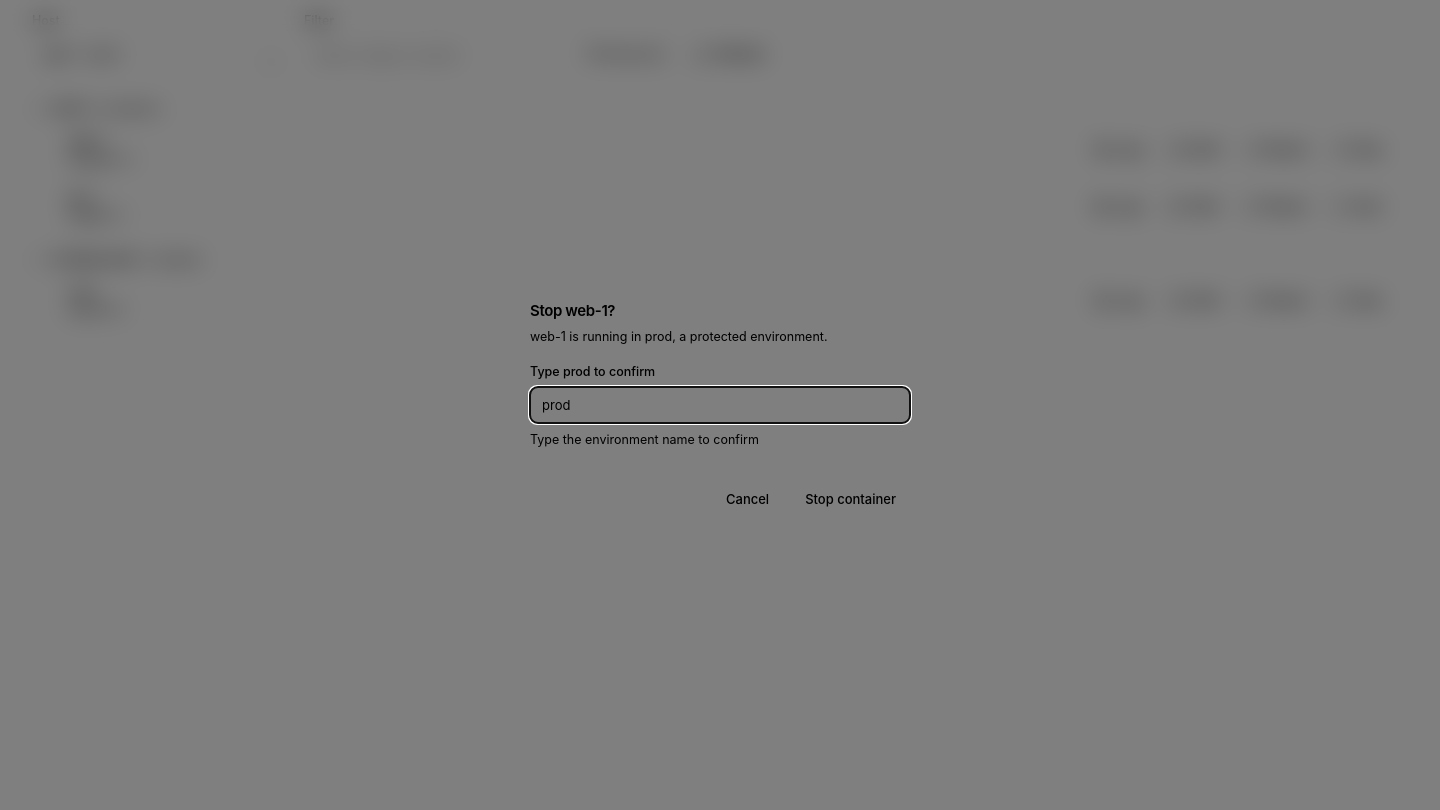
Test case: containers tab review fixes › a refusal clears when the typed name changes
Earlier steps of the test are not shown.
Expected: the message "Type the environment name to confirm" is shown, [530,432,759,447]
Replace the text in the field with "pro": (720, 405) [530,387,910,423]
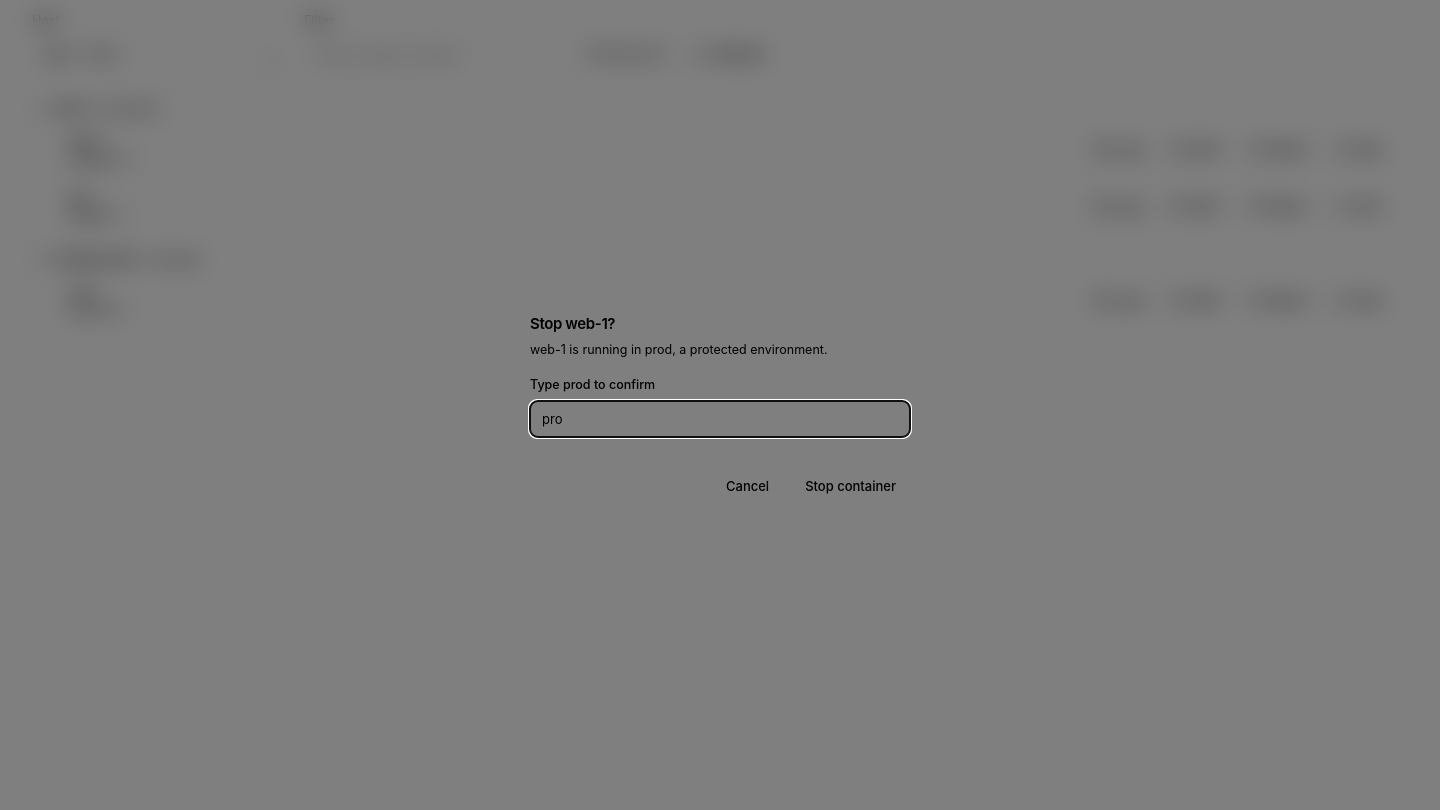
Expected: the message "Type the environment name to confirm" is gone
